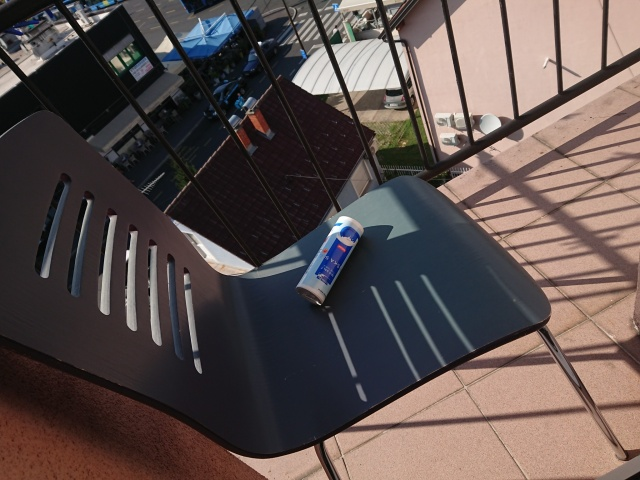Solana Pag Fine Sea Salt 250g: (293, 213, 367, 310)
